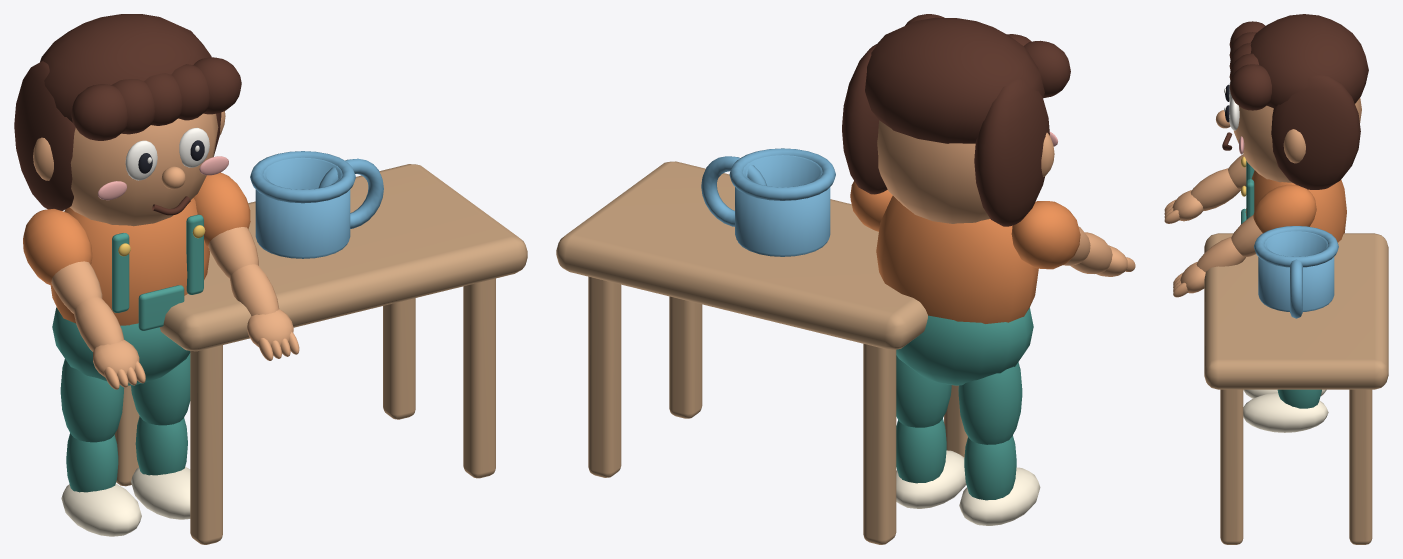
The model's file is word-all-done.glb.
3 views of the same model, side by side, from view 1: azimuth 30°, elevation 25°; view 2: azimuth 150°, elevation 25°; view 3: azimuth 270°, elevation 25° (orthographic). The views are drawn at different scales.
Visible parts, largest first — view 1: table top, hair cap, clay head, soft shirt, hollow cup wall, table leg, table leg.002, bob hair, table leg.003, overalls, trouser leg, shirt sleeve (+26 smaller); view 2: table top, hair cap, soft shirt, bob hair, clay head, hollow cup wall, overalls, table leg.001, table leg.003, trouser leg, table leg.002, bob hair.001 (+12 smaller); view 3: table top, bob hair.001, hair cap, hollow cup wall, table leg.002, table leg.003, clay head, little shoe.001, shirt sleeve.001, soft shirt, fringe.004, cup rim (+13 smaller).
Part boxes in pixels (x1,y1,x2,y2): table top: (159, 164, 527, 351); hair cap: (40, 14, 211, 122); clay head: (70, 113, 218, 226); soft shirt: (50, 198, 209, 325); hollow cup wall: (255, 157, 350, 256); table leg: (190, 345, 222, 544); table leg.002: (463, 278, 495, 478); bob hair: (14, 60, 75, 210); table leg.003: (383, 298, 415, 419); overalls: (52, 307, 190, 385); trouser leg: (60, 359, 123, 442); shirt sleeve: (23, 209, 92, 285); table top: (556, 161, 927, 349); hair cap: (865, 17, 1044, 143); soft shirt: (876, 196, 1038, 323); bob hair: (974, 79, 1049, 226); clay head: (877, 120, 990, 223); hollow cup wall: (735, 155, 830, 254); overalls: (896, 308, 1033, 385); table leg.001: (863, 344, 896, 544); table leg.003: (588, 276, 621, 477); trouser leg: (958, 362, 1022, 444); table leg.002: (669, 296, 702, 418); bob hair.001: (842, 44, 887, 194); table top: (1204, 233, 1388, 389); bob hair.001: (1271, 75, 1360, 189); hair cap: (1250, 14, 1368, 107); hollow cup wall: (1258, 231, 1334, 310); table leg.002: (1220, 389, 1243, 544); table leg.003: (1349, 389, 1372, 544); clay head: (1233, 97, 1361, 182); little shoe.001: (1243, 392, 1328, 432); shirt sleeve.001: (1253, 184, 1316, 232); soft shirt: (1245, 170, 1346, 242); fringe.004: (1229, 64, 1271, 110); cup rim: (1254, 226, 1338, 267).
Bounding box in the file's own units: 1.83 × 1.9 × 0.9729.
